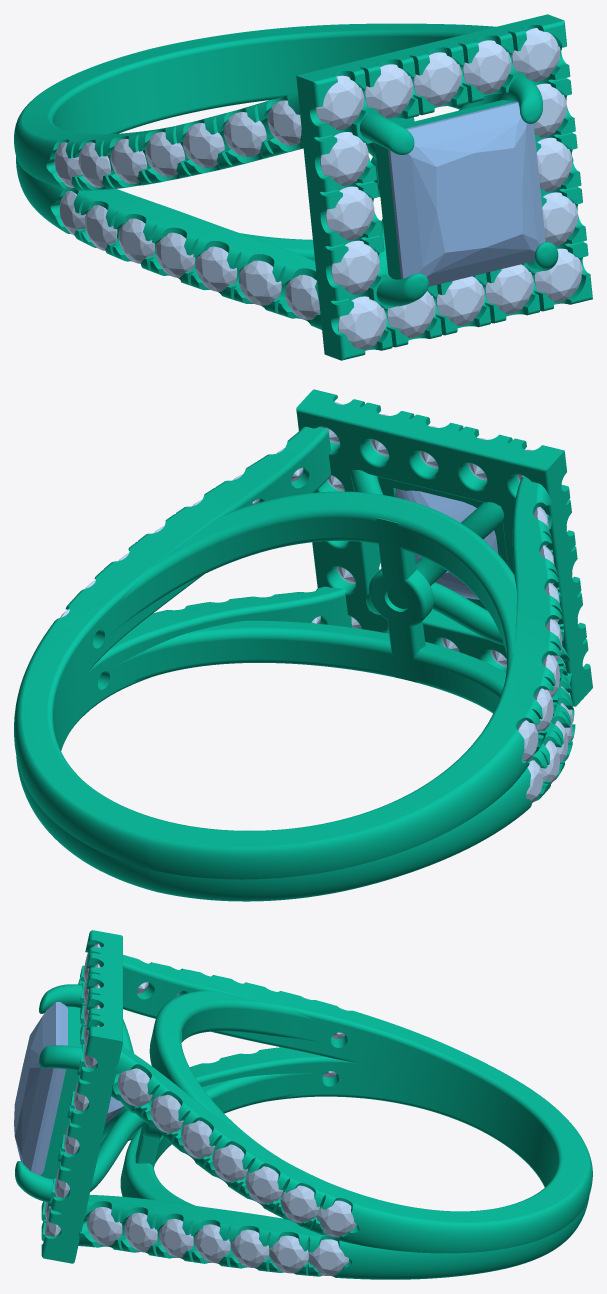
The picture shows the model from 3 angles, top to bottom: view 1: azimuth 30°, elevation 25°; view 2: azimuth 150°, elevation 25°; view 3: azimuth 270°, elevation 25°; orthographic projection. The views are drawn at different scales.
Parts seen in each view (by area): view 1: JTC 13728(base).3dm, Diamond_Round (×30), Diamond_Princess; view 2: JTC 13728(base).3dm, Diamond_Princess; view 3: JTC 13728(base).3dm, Diamond_Round (×14), Diamond_Princess.
Boxes of the visible parts, x1,y1,x2,y2 form: JTC 13728(base).3dm: (14, 14, 592, 360); Diamond_Round (×30): (54, 28, 582, 350); Diamond_Princess: (388, 101, 545, 286); JTC 13728(base).3dm: (14, 389, 592, 901); Diamond_Princess: (395, 488, 498, 599); JTC 13728(base).3dm: (15, 930, 592, 1279); Diamond_Round (×14): (87, 1068, 356, 1275); Diamond_Princess: (14, 1002, 124, 1175).
Bounding box in the file's own units: 2.4 × 1.28 × 2.93.
